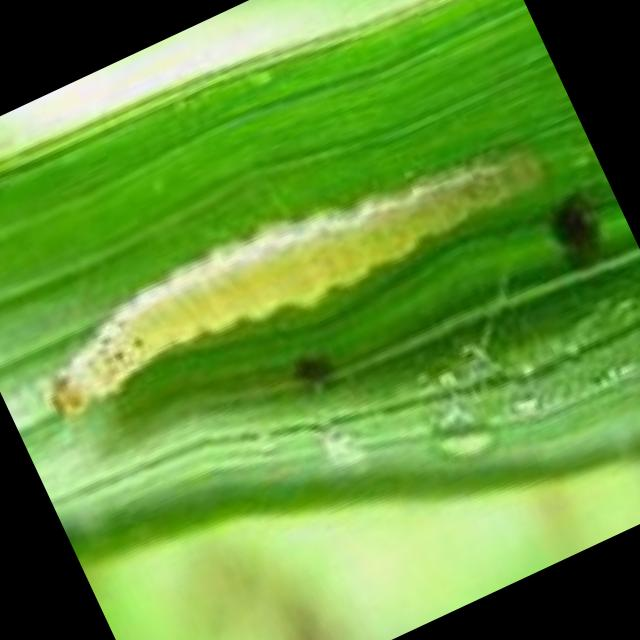leaf-folder: (0, 76, 576, 469)
